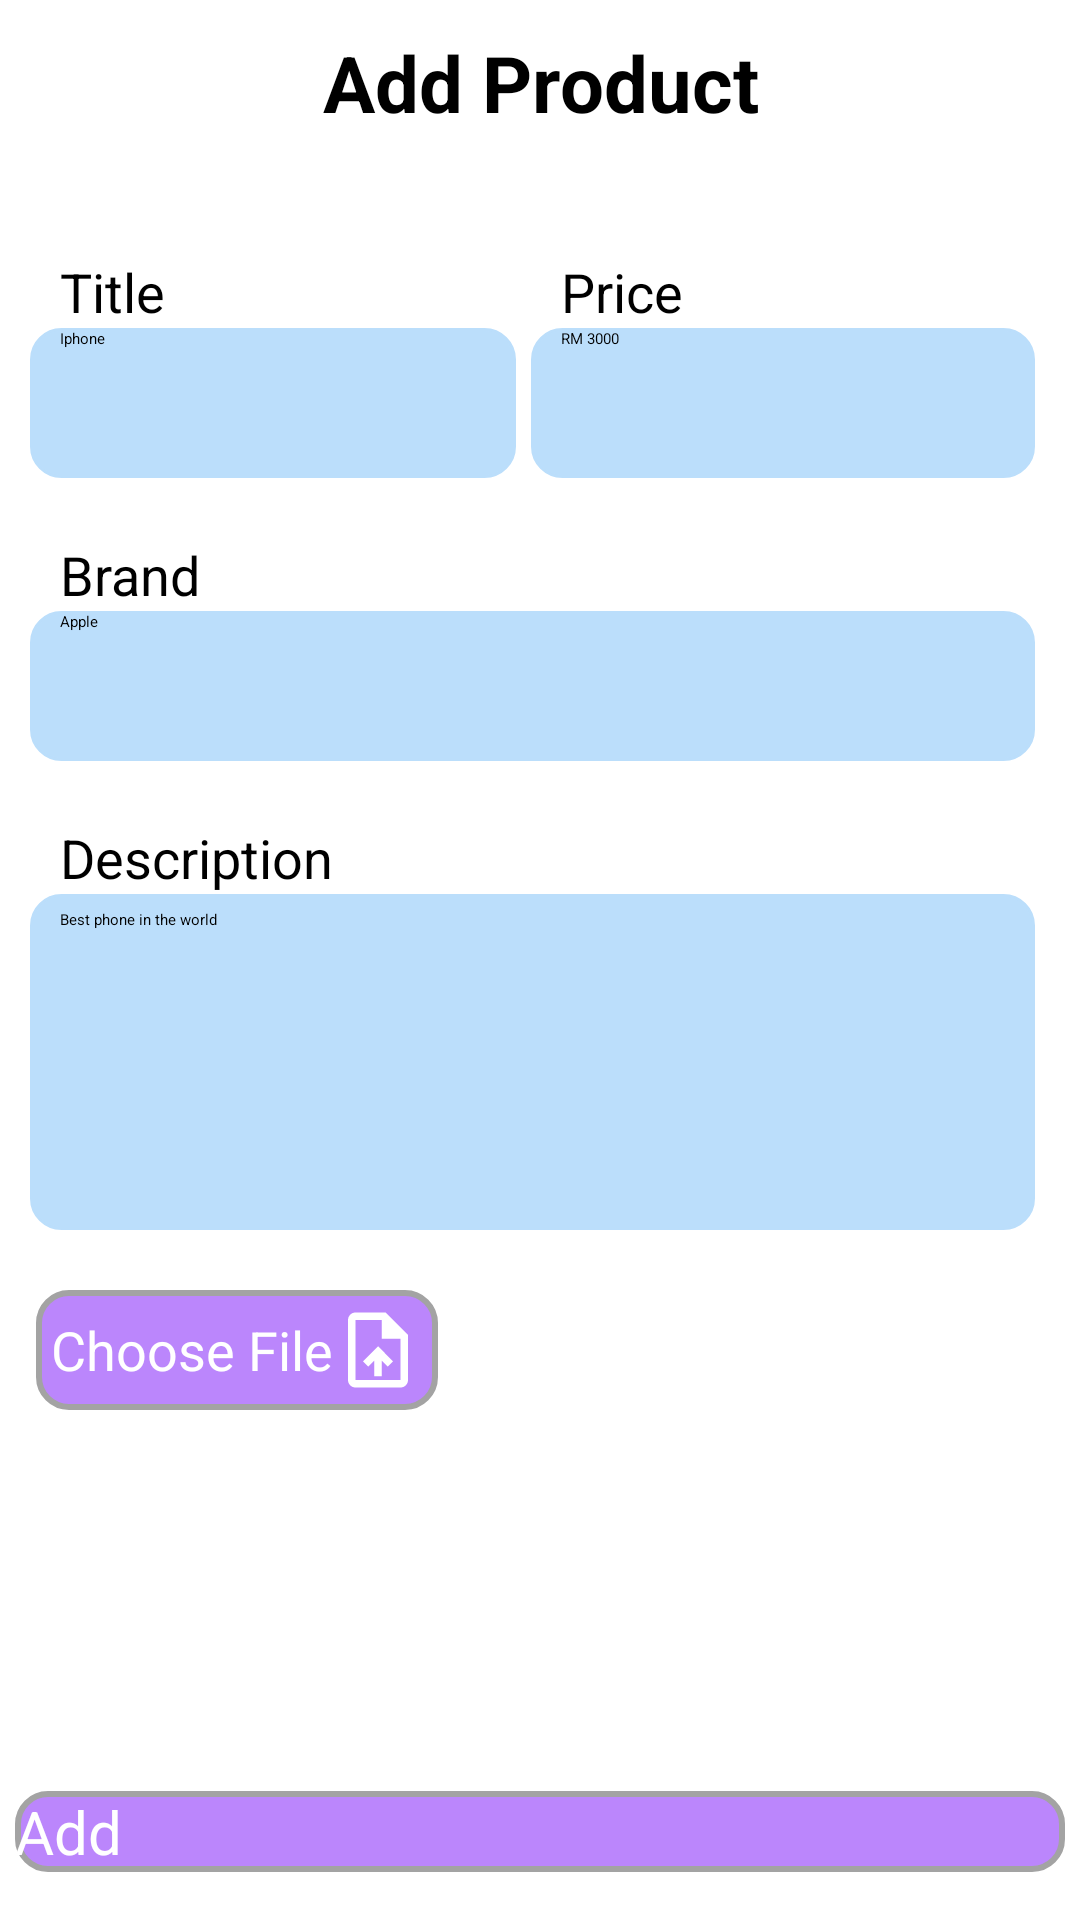

Named icons in this screenshot (1080px×1920px) and their centers, [x,y]:
upload: [378,1350]
